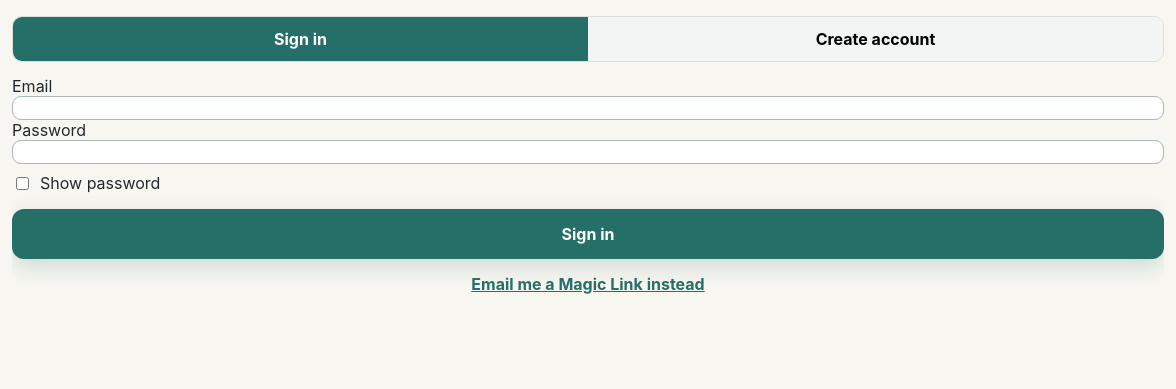
Scenario: password authentication fallback › shows a sanitized invalid-credential message
Type "User@Example.COM" into the field labelled "Email". click: point(588, 108)
box: [12, 96, 1164, 120]
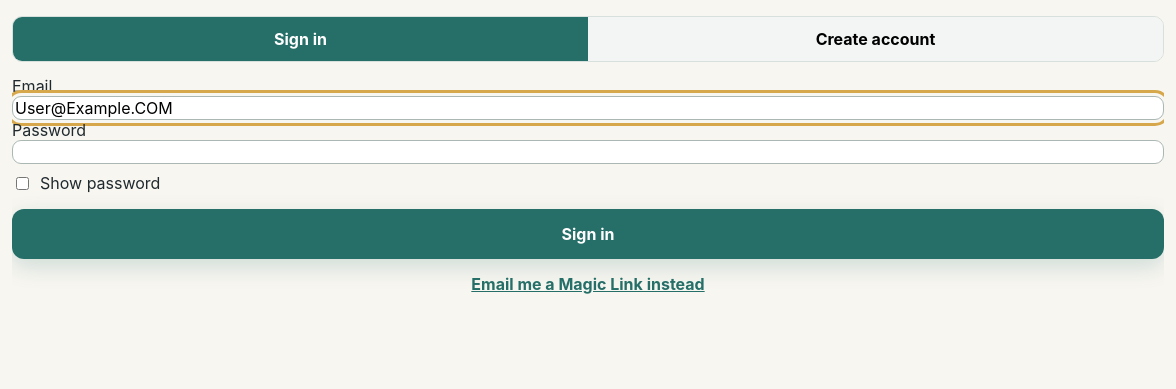
Type "safe-pass-123" into the password field labelled "Password". click: point(588, 152)
box: [12, 140, 1164, 164]
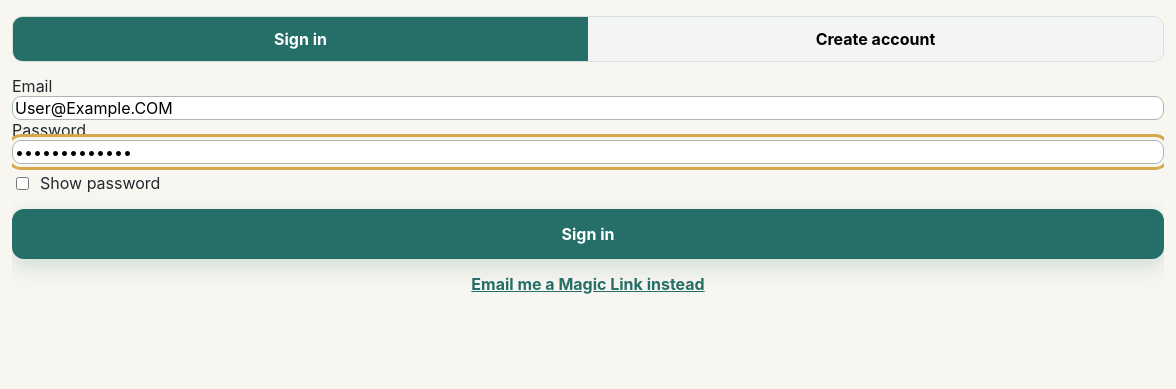
Click the button "Sign in". click: point(588, 234)
box: [12, 209, 1164, 259]
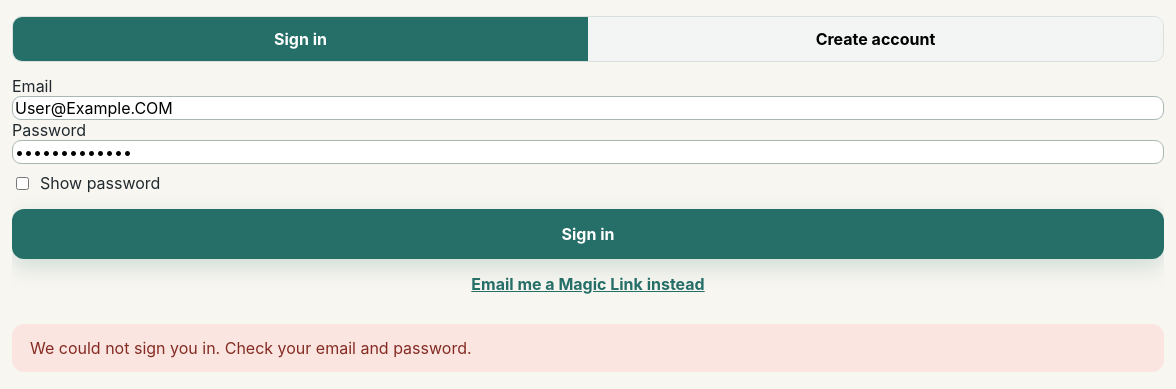
Expected: the message does not show "supabase.co", [12, 324, 1164, 372]
Expected: the message shows "Check your email and password", [30, 338, 472, 358]
